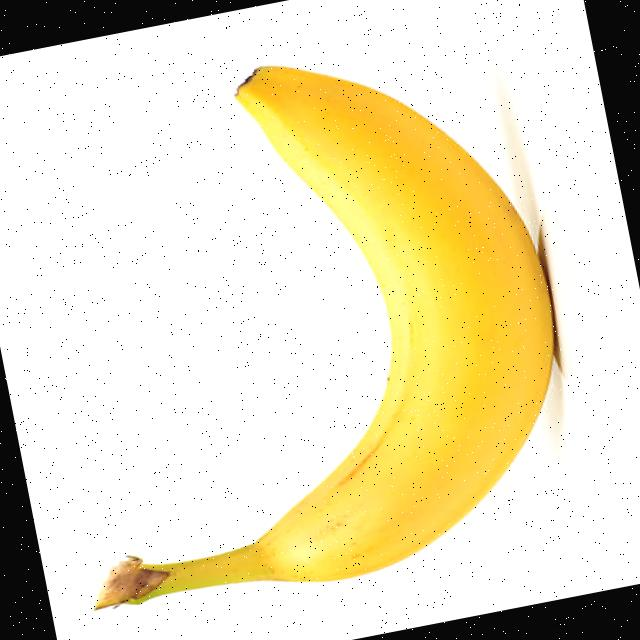Ripe: (28, 16, 601, 622)
